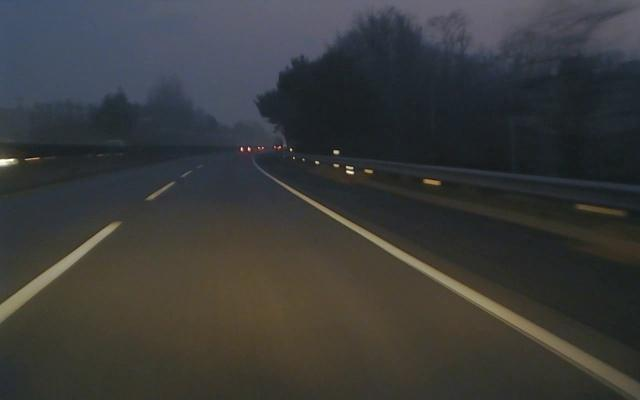lane: (276, 180, 640, 400), (0, 179, 177, 323)
